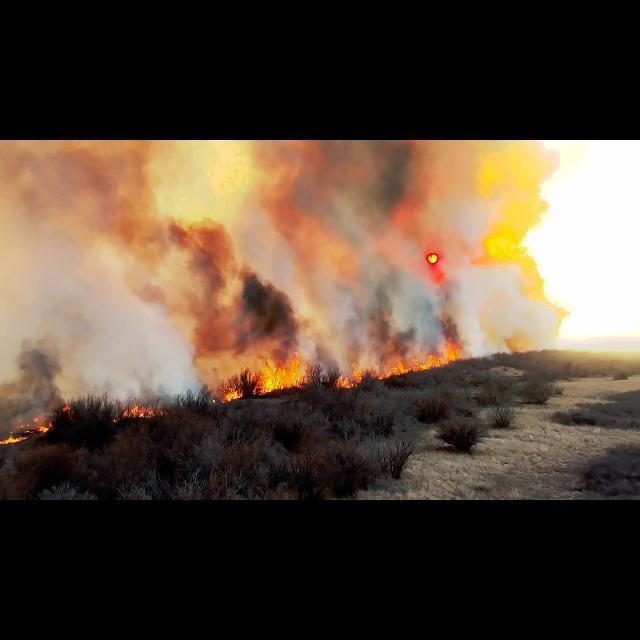Fire: (245, 362, 299, 398)
Smoke: (186, 268, 306, 339)
